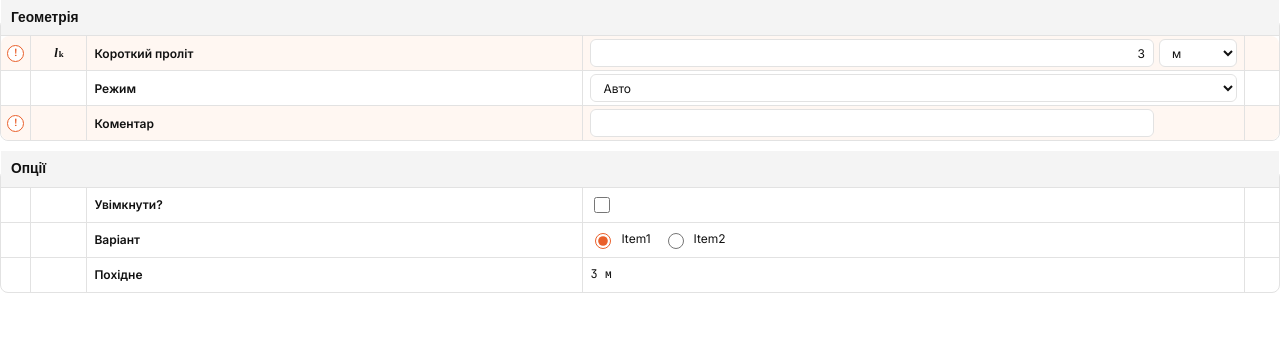
Test: InputSchemaForm › opens combined inline help and field errors from the error action
Click the button named "Показати помилку поля Короткий проліт": [16, 53] box [7,45,24,62]
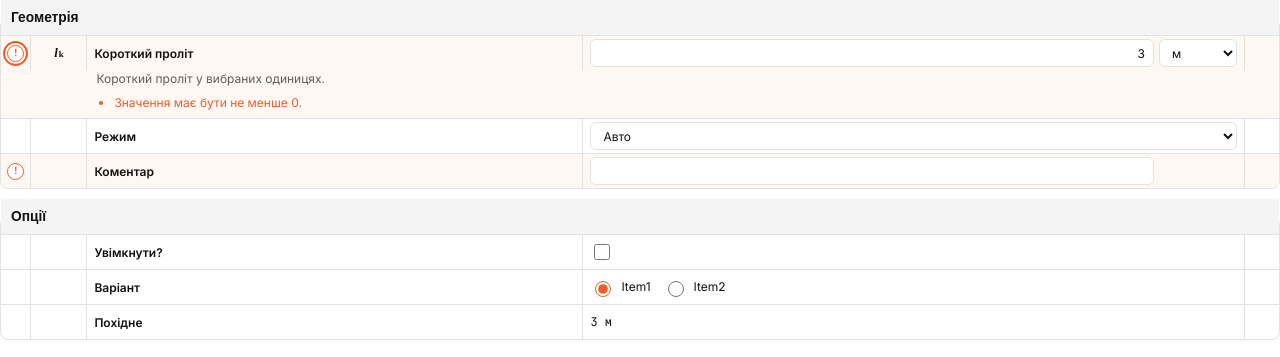
Result: the text "Значення має бути не менше 0." is shown at [114,95,302,110]
Result: the text "Короткий проліт у вибраних одиницях." is shown at [96,71,325,86]
